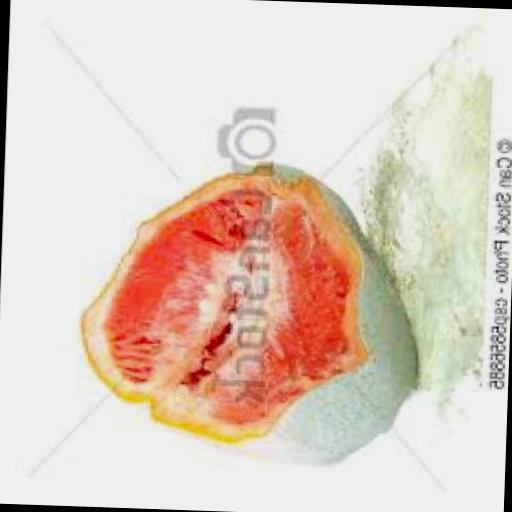biodegradable: (73, 154, 420, 465)
